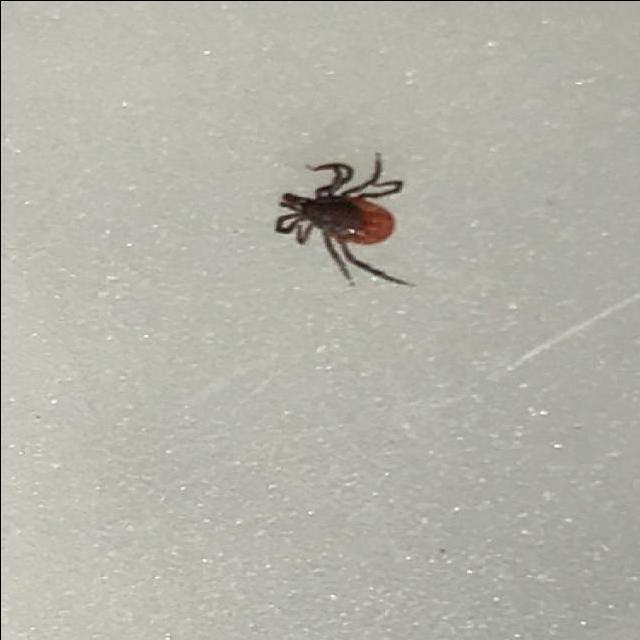Ixodes Ricinus-F-Fed: (273, 151, 415, 285)
